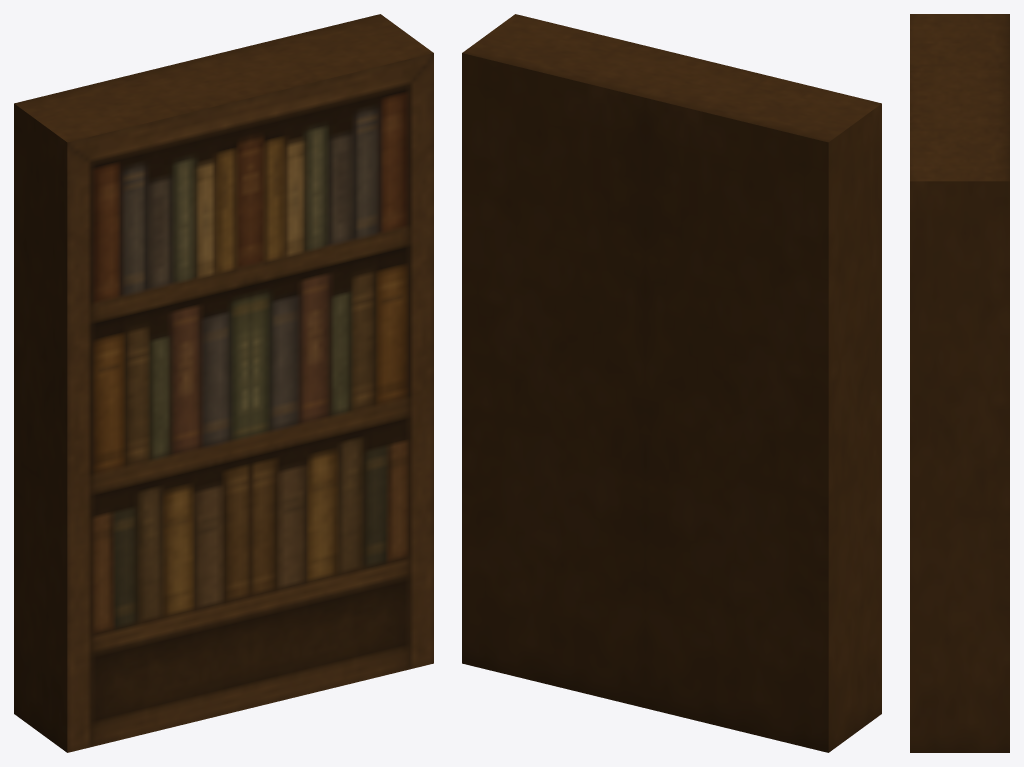
File: Booksheld.fbx
3 renders of one model, left to right at view 1: azimuth 30°, elevation 25°; view 2: azimuth 150°, elevation 25°; view 3: azimuth 270°, elevation 25°, orthographic. The views are drawn at different scales.
Parts seen in each view (by area): view 1: Bookshelf; view 2: Bookshelf; view 3: Bookshelf.
Part boxes in pixels (x1,y1,x2,y2): Bookshelf: [14, 14, 433, 752]; Bookshelf: [462, 14, 881, 752]; Bookshelf: [910, 14, 1009, 752].
Size of the model in its own units: 353 by 89.15 by 563.
